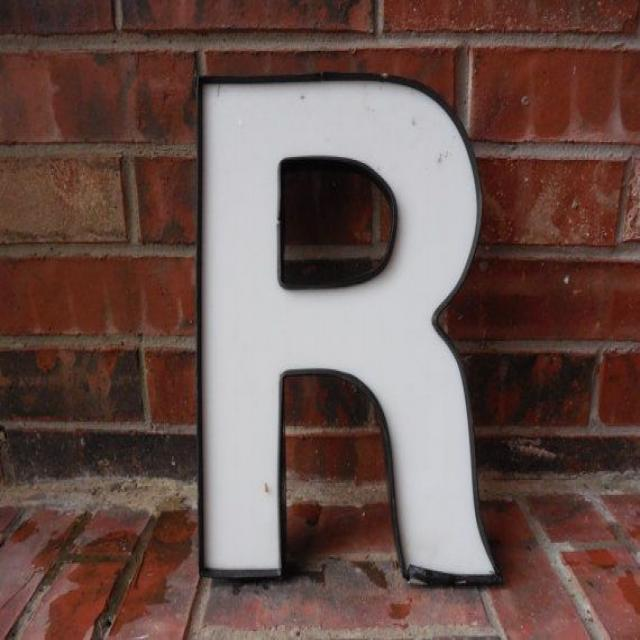R: (176, 49, 514, 601)
